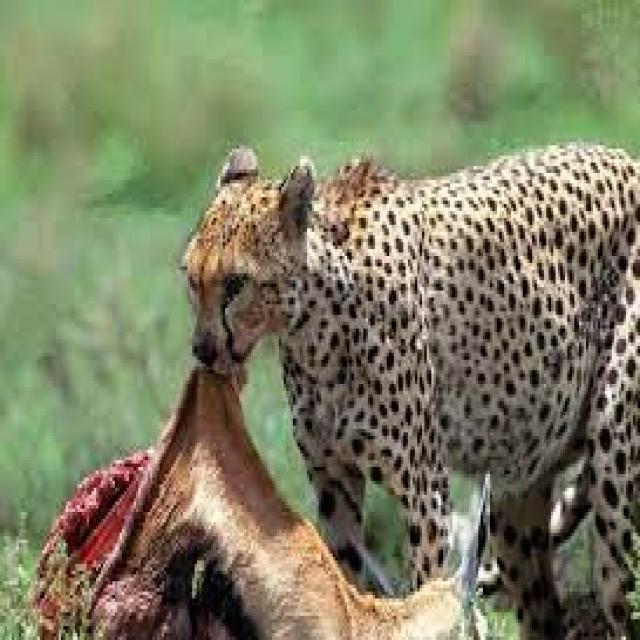Carnivorous: (178, 142, 640, 640)
